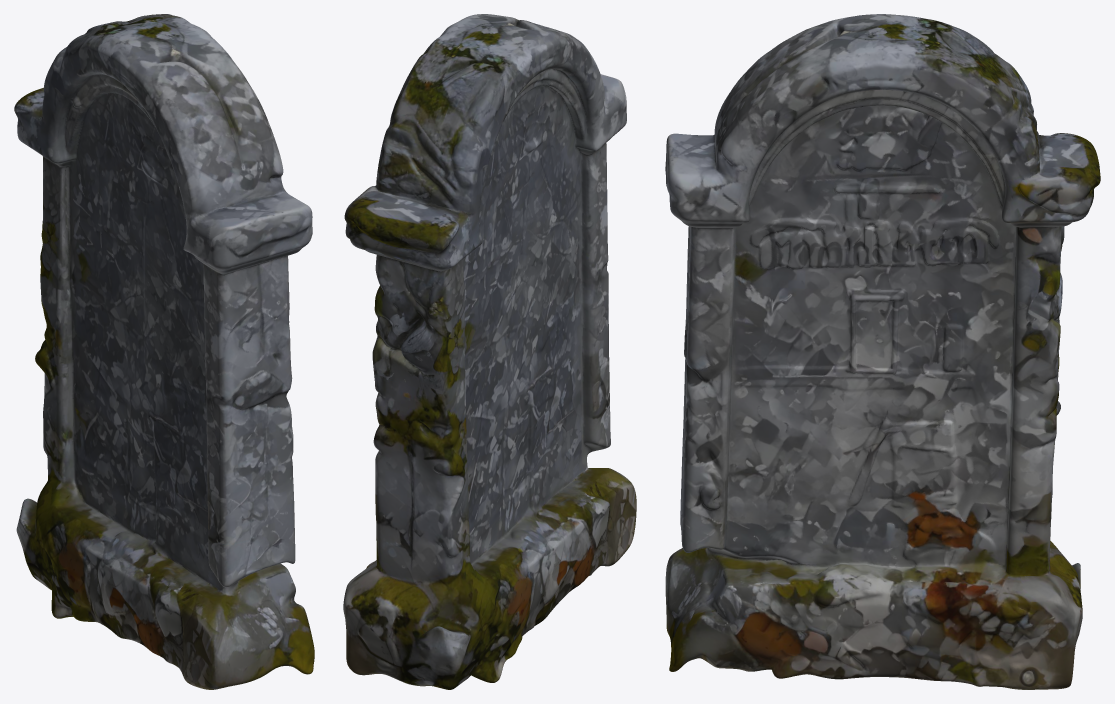
File: شاهد_قبر-2.glb
3 views of the same model, side by side, from view 1: azimuth 30°, elevation 25°; view 2: azimuth 150°, elevation 25°; view 3: azimuth 270°, elevation 25° (orthographic). The views are drawn at different scales.
Parts seen in each view (by area): view 1: tripo_node_381510e7-a2cb-46cf-875f-1f558b436b22; view 2: tripo_node_381510e7-a2cb-46cf-875f-1f558b436b22; view 3: tripo_node_381510e7-a2cb-46cf-875f-1f558b436b22.
Part boxes in pixels (x1,y1,x2,y2): tripo_node_381510e7-a2cb-46cf-875f-1f558b436b22: (14, 14, 314, 689); tripo_node_381510e7-a2cb-46cf-875f-1f558b436b22: (343, 14, 636, 689); tripo_node_381510e7-a2cb-46cf-875f-1f558b436b22: (665, 14, 1100, 689).
Size of the model in its own units: 0.222 by 1 by 0.612.
Materials: 1 (1 with a texture image).
